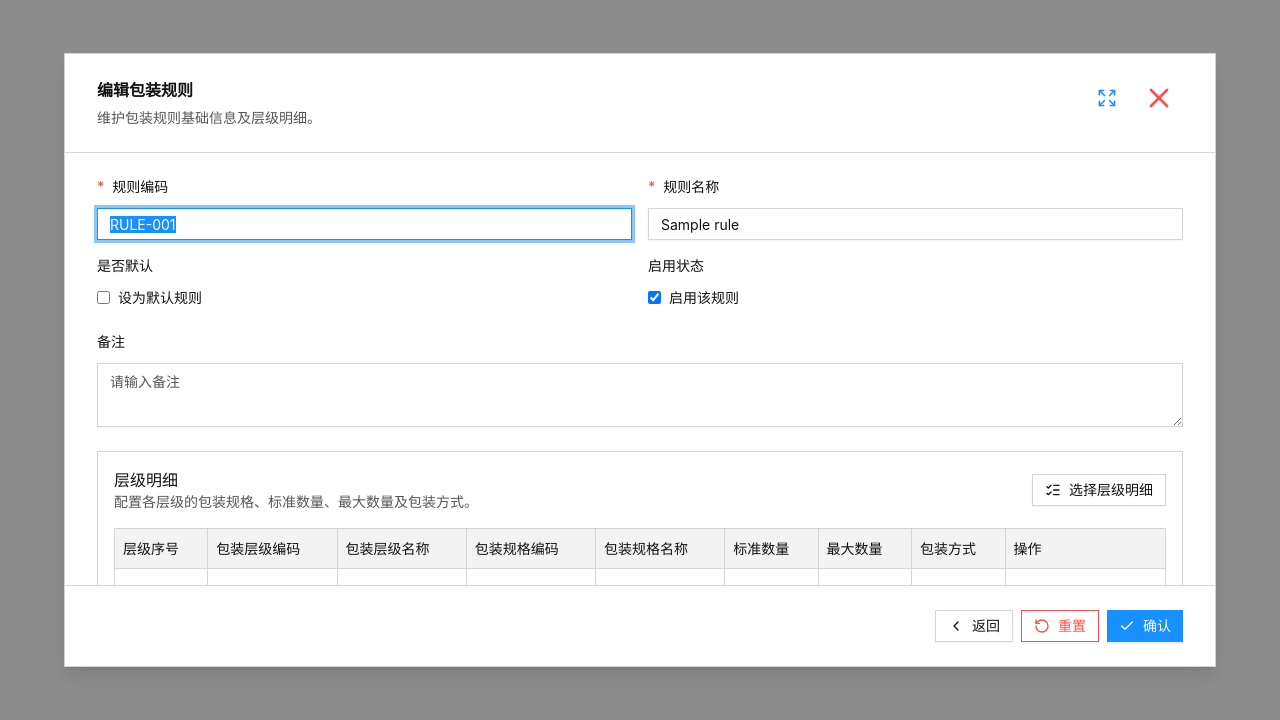
Test: PackagingRuleFormDialog › surfaces per-cell detail validation errors and the summary banner
The image size is (1280, 720).
What coordinates should you click on to do the following:
click the button with test id "packaging-rule-form-submit"
I would click on:
 (1145, 626)
Its box is [1107,610,1183,642].
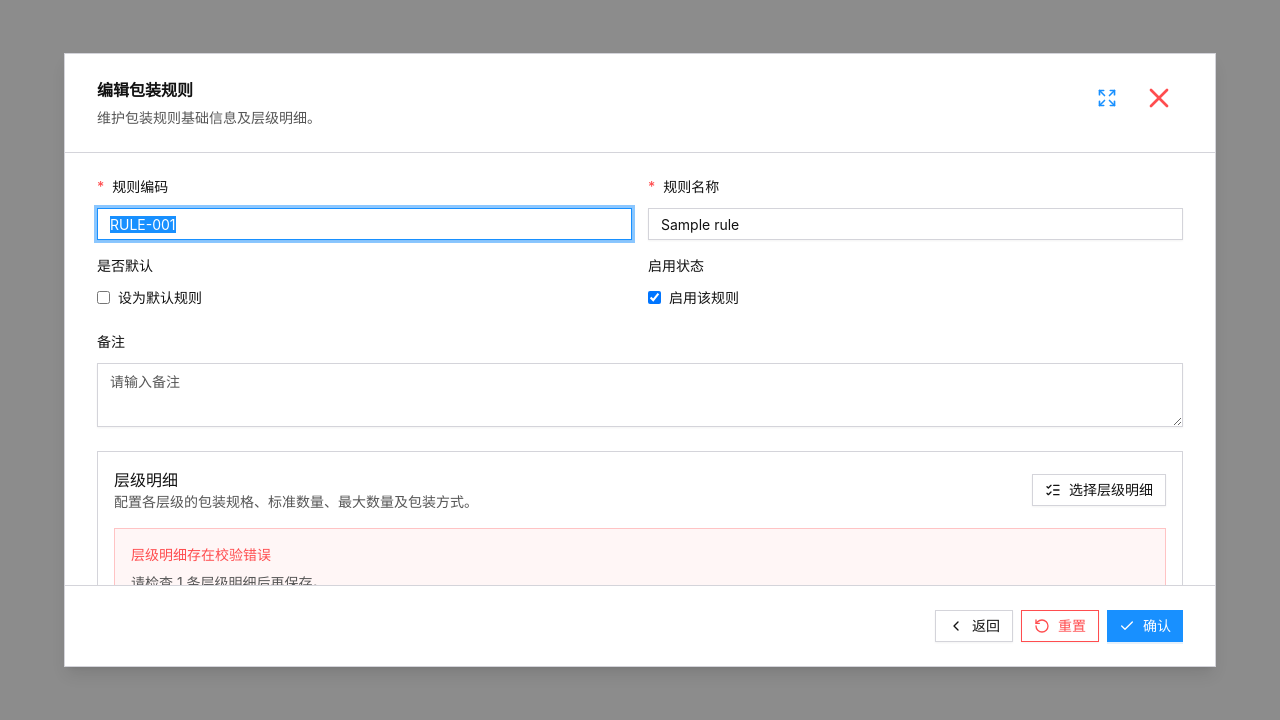
Expected: the message "层级明细存在校验错误 请检查 1 条层级明细后再保存。" is shown, [114,528,1166,585]
